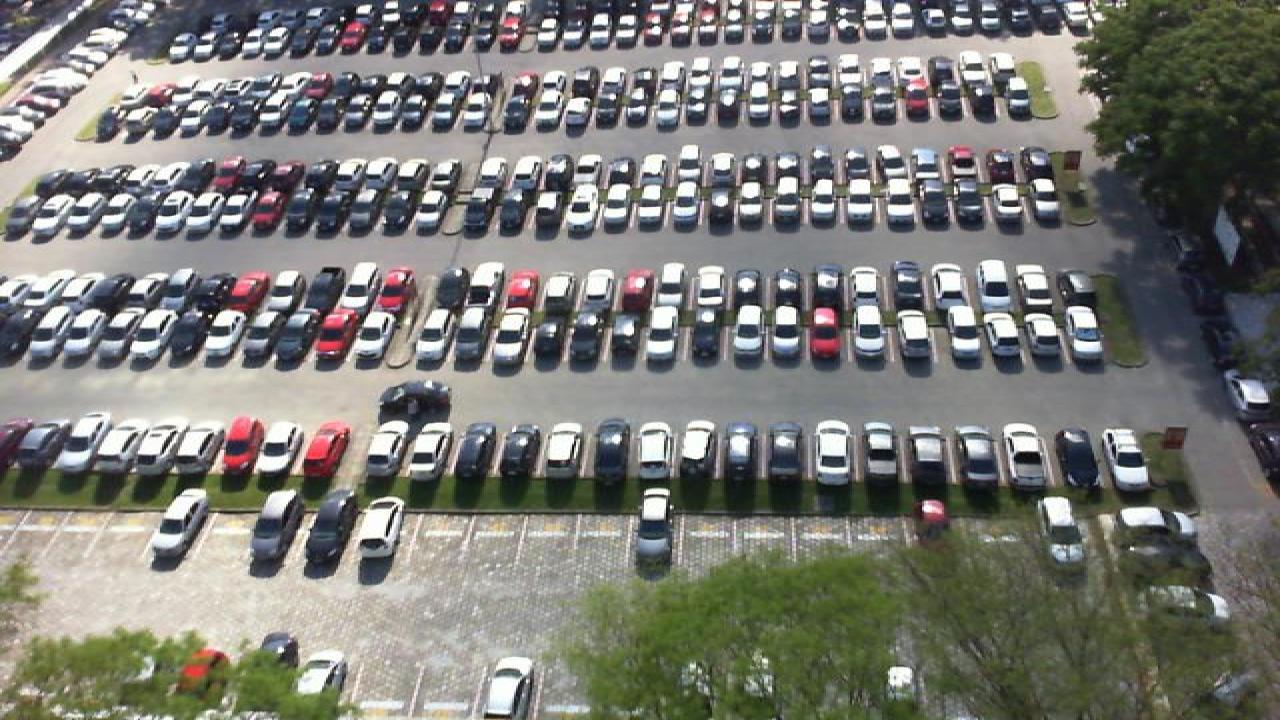Car: (1032, 494, 1088, 569), (152, 487, 210, 557), (476, 655, 538, 719), (248, 487, 300, 558), (302, 488, 354, 556), (374, 378, 454, 422), (632, 486, 678, 561), (1116, 549, 1208, 586), (356, 495, 408, 560), (56, 410, 108, 472), (1106, 428, 1156, 490), (1116, 506, 1202, 542), (298, 420, 350, 478), (406, 419, 454, 480), (126, 417, 176, 475), (954, 424, 1000, 486), (364, 419, 410, 480), (1002, 423, 1046, 486), (452, 420, 498, 480), (1060, 426, 1104, 488), (906, 425, 952, 484), (218, 413, 264, 471), (296, 647, 350, 696), (90, 417, 138, 472), (120, 305, 168, 360), (48, 304, 96, 359), (256, 421, 302, 478), (860, 420, 902, 482), (766, 420, 808, 482), (590, 418, 632, 480), (542, 422, 586, 481), (494, 421, 538, 480), (174, 420, 222, 474), (814, 420, 854, 484), (176, 646, 234, 690), (14, 307, 62, 360), (268, 306, 314, 361), (636, 419, 676, 482), (84, 306, 132, 358), (18, 416, 64, 470), (196, 307, 242, 361), (308, 309, 356, 360), (160, 306, 206, 359), (230, 309, 276, 361), (1062, 305, 1106, 359), (680, 419, 718, 481), (448, 308, 490, 364), (730, 303, 770, 361), (642, 304, 682, 362), (722, 420, 760, 481), (1020, 309, 1064, 360), (852, 304, 890, 361), (412, 307, 452, 361), (356, 310, 396, 364), (1014, 263, 1058, 312), (982, 308, 1024, 359), (770, 303, 808, 359), (896, 308, 936, 361), (370, 264, 414, 312), (942, 311, 984, 361), (810, 306, 848, 361), (684, 306, 722, 361), (974, 258, 1014, 310), (18, 188, 60, 237), (250, 629, 300, 670), (152, 264, 196, 310), (112, 190, 154, 238), (488, 308, 526, 361), (1054, 269, 1098, 314), (46, 269, 90, 314), (222, 268, 266, 312), (50, 190, 92, 236), (524, 310, 564, 358), (564, 180, 600, 233), (932, 263, 970, 313), (340, 260, 378, 310), (176, 189, 216, 236), (602, 309, 640, 358), (890, 260, 928, 309), (306, 188, 344, 237), (184, 268, 226, 312), (82, 269, 124, 313), (10, 272, 54, 314), (264, 264, 304, 310), (208, 189, 248, 235), (148, 190, 188, 236), (810, 262, 846, 313), (424, 264, 462, 312), (338, 189, 376, 237), (116, 271, 158, 314), (654, 261, 690, 311), (916, 178, 952, 228), (530, 184, 566, 234), (240, 190, 280, 235), (990, 182, 1028, 229), (274, 188, 312, 235), (850, 263, 886, 312), (732, 263, 768, 312), (878, 179, 914, 228), (616, 268, 656, 312), (576, 268, 616, 312), (84, 192, 124, 236), (1030, 182, 1068, 228), (496, 182, 530, 233), (952, 180, 988, 228), (540, 269, 578, 314), (502, 269, 540, 314), (840, 180, 874, 230), (804, 180, 838, 230), (768, 180, 802, 230), (700, 180, 734, 230), (666, 180, 700, 230), (374, 189, 410, 236), (916, 498, 954, 542), (302, 268, 340, 312), (464, 263, 498, 312), (598, 183, 632, 232), (564, 312, 600, 358), (442, 190, 478, 235), (736, 182, 768, 231), (632, 181, 664, 230), (694, 264, 728, 310), (408, 190, 442, 236), (772, 264, 804, 312), (1024, 146, 1060, 187), (984, 145, 1020, 186), (948, 145, 984, 185), (910, 146, 946, 186), (670, 144, 704, 186), (840, 145, 874, 185), (226, 154, 260, 194), (420, 155, 452, 196), (192, 156, 228, 192), (388, 156, 422, 194), (322, 156, 356, 194), (64, 162, 102, 196), (160, 161, 196, 196), (258, 156, 292, 192), (876, 146, 908, 184), (604, 151, 636, 189), (506, 152, 538, 190), (452, 156, 484, 194), (356, 156, 388, 194), (130, 161, 164, 196), (34, 164, 70, 197), (772, 148, 804, 185), (636, 151, 668, 188), (540, 153, 572, 189), (290, 156, 322, 192), (98, 163, 132, 196), (806, 150, 838, 185), (704, 152, 736, 187), (738, 153, 770, 187), (572, 153, 604, 187)
